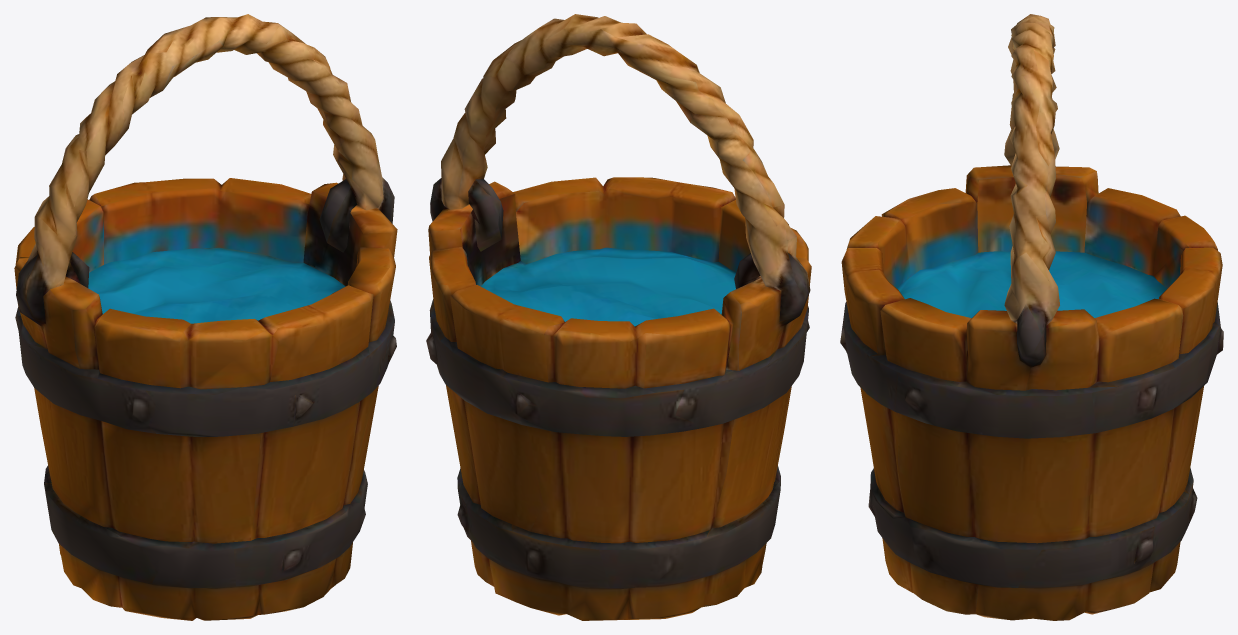
File: bucket.glb
The picture shows the model from 3 angles, left to right: view 1: azimuth 30°, elevation 25°; view 2: azimuth 150°, elevation 25°; view 3: azimuth 270°, elevation 25°; orthographic projection.
Parts seen in each view (by area): view 1: textured_mesh.obj; view 2: textured_mesh.obj; view 3: textured_mesh.obj.
Part boxes in pixels (<box>): textured_mesh.obj: <box>14,14,397,620</box>; textured_mesh.obj: <box>426,14,811,620</box>; textured_mesh.obj: <box>840,14,1223,620</box>.
Size of what is drawn, in the model's own units: 0.3986 by 0.55 by 0.3548.
1 material, 1 textured.
